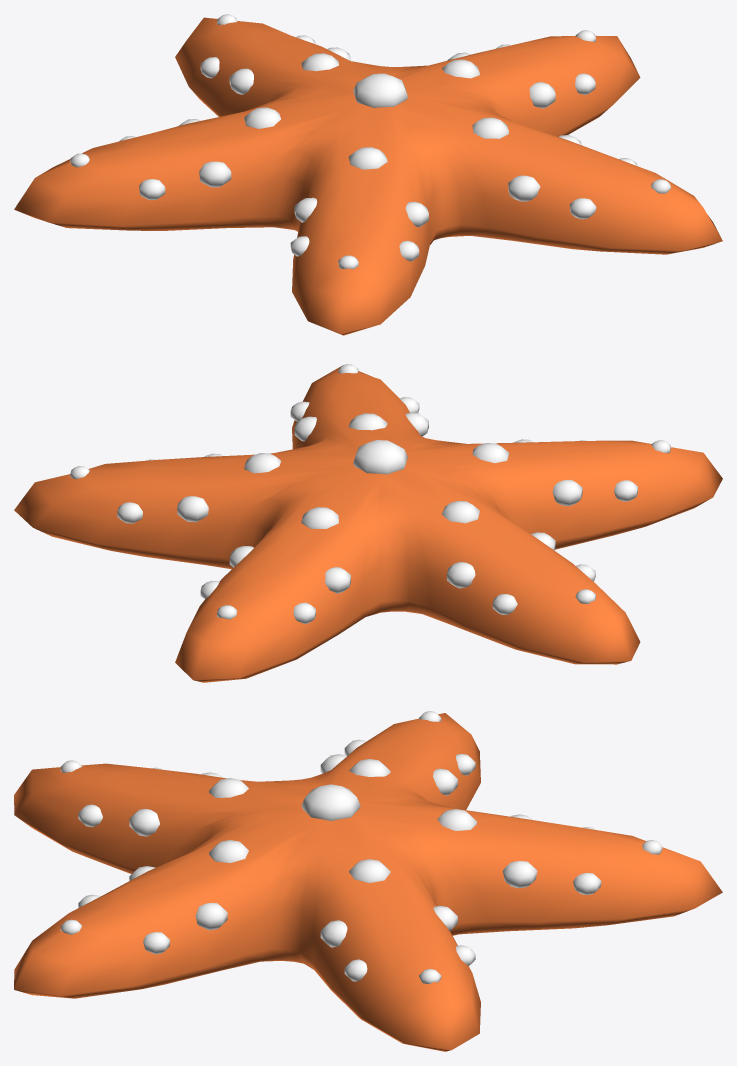
File: SharkBaitStarfish.obj
3 renders of one model, top to bottom at view 1: azimuth 30°, elevation 25°; view 2: azimuth 150°, elevation 25°; view 3: azimuth 270°, elevation 25°, orthographic. The views are drawn at different scales.
Parts seen in each view (by area): view 1: Star, Dots; view 2: Star, Dots; view 3: Star, Dots.
Boxes of the visible parts, bbox=[...] form: Star: bbox=[14, 17, 722, 335]; Dots: bbox=[70, 14, 670, 269]; Star: bbox=[14, 365, 722, 682]; Dots: bbox=[70, 364, 670, 624]; Star: bbox=[14, 713, 722, 1051]; Dots: bbox=[60, 711, 662, 983].
Bounding box in the file's own units: 2.51 × 0.5 × 2.39.
